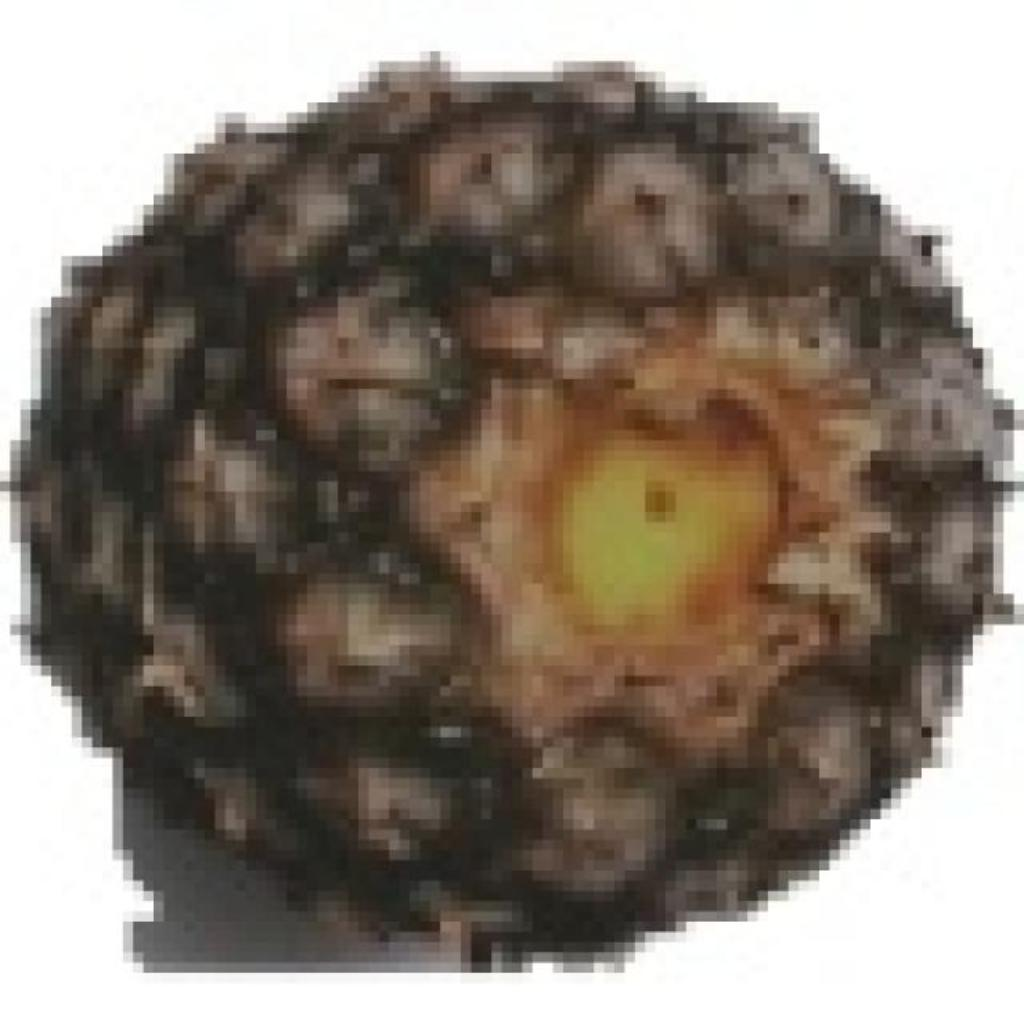pineapple: (41, 51, 1014, 942)
